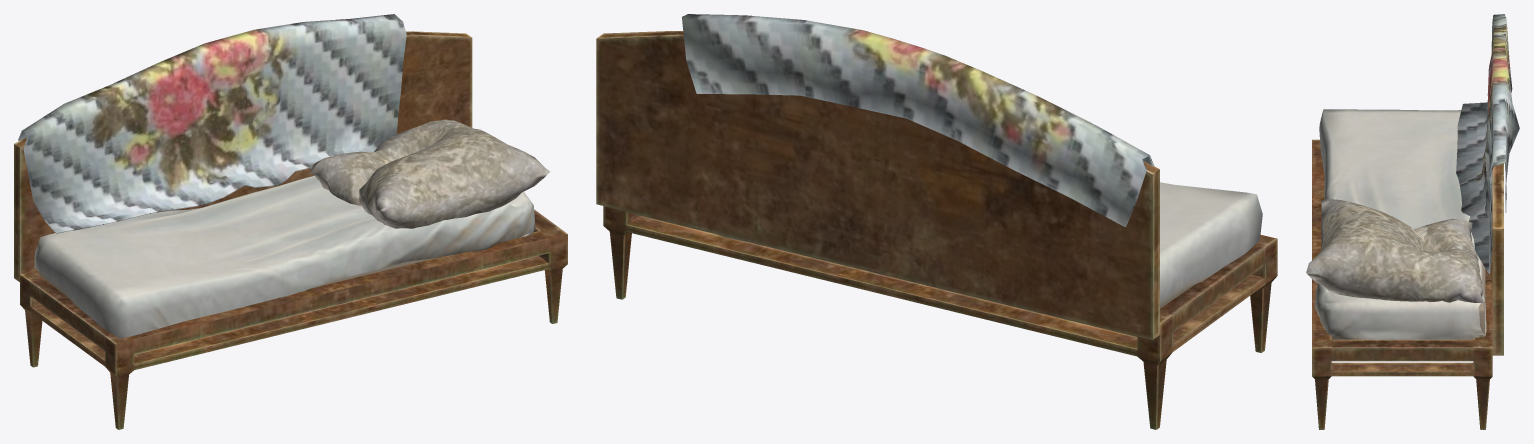
Rendered from vintage_day_bed.glb.
3 views of the same model, side by side, from view 1: azimuth 30°, elevation 25°; view 2: azimuth 150°, elevation 25°; view 3: azimuth 270°, elevation 25° (orthographic). The views are drawn at different scales.
Visible parts, largest first — view 1: vintage_day_bed; view 2: vintage_day_bed; view 3: vintage_day_bed.
Boxes of the visible parts, x1=… form: vintage_day_bed: x1=14, y1=14, x2=567, y2=429; vintage_day_bed: x1=596, y1=14, x2=1277, y2=429; vintage_day_bed: x1=1306, y1=14, x2=1519, y2=429.
Bounding box in the file's own units: 1.97 × 1.13 × 0.8548.
1 material, 1 textured.
